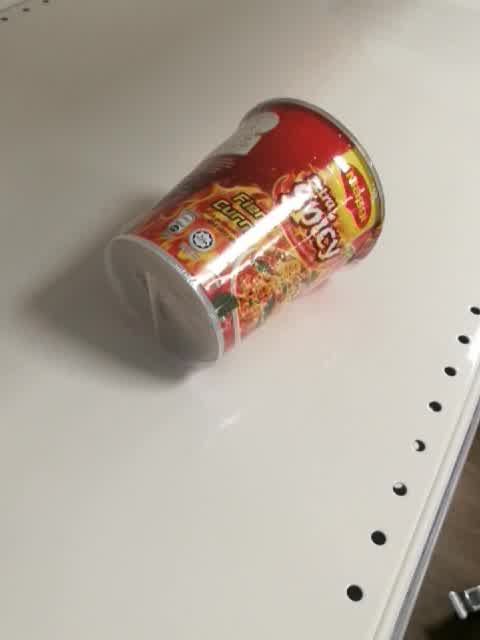maggi: (104, 97, 385, 370)
